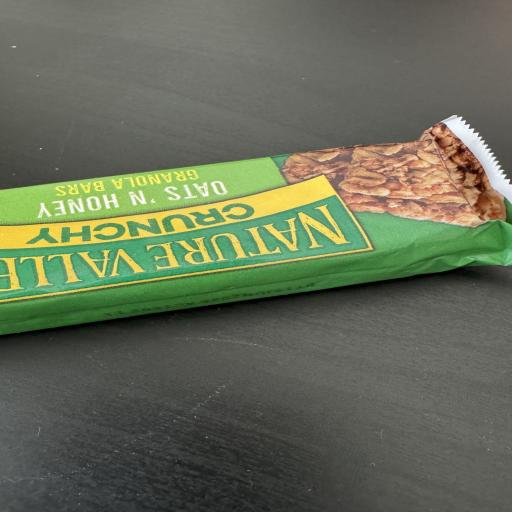granola: (0, 117, 511, 333)
